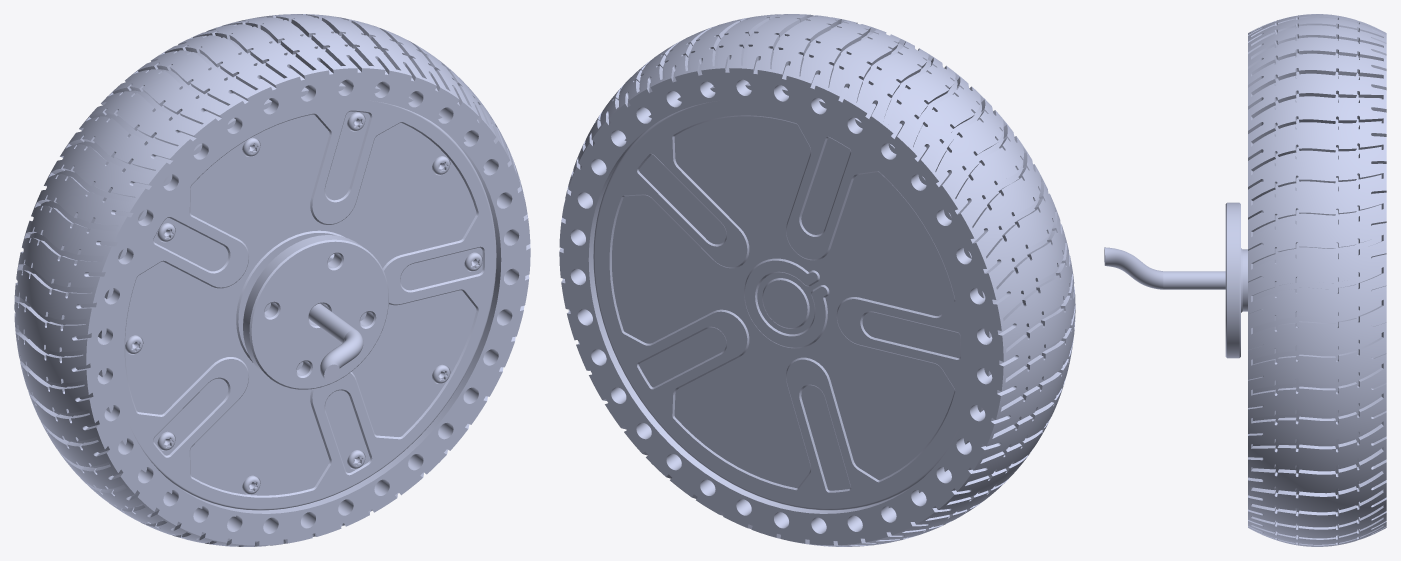
File: wheel_left.dae
The picture shows the model from 3 angles, left to right: view 1: azimuth 30°, elevation 25°; view 2: azimuth 150°, elevation 25°; view 3: azimuth 270°, elevation 25°; orthographic projection. The views are drawn at different scales.
Visible parts, largest first — view 1: wheel_left; view 2: wheel_left; view 3: wheel_left.
Boxes of the visible parts, <box> form: wheel_left: <box>14,14,530,546</box>; wheel_left: <box>559,14,1075,546</box>; wheel_left: <box>1104,14,1386,546</box>.
Bounding box in the file's own units: 0.1713 × 0.0908 × 0.1713.
